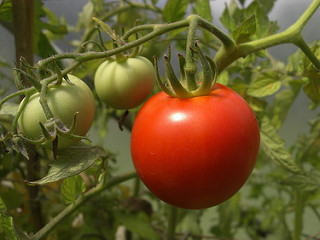tomato: (128, 83, 257, 207)
